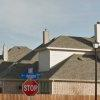Chimney: (38, 25, 51, 51)
